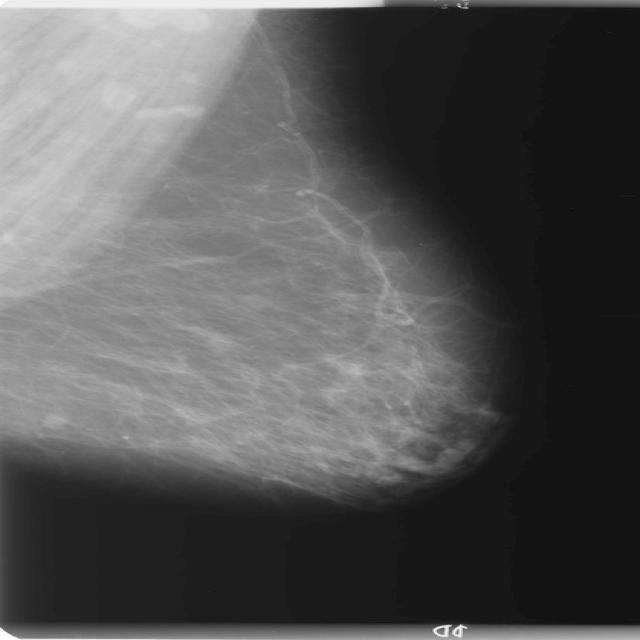tumour: (38, 410, 69, 430)
